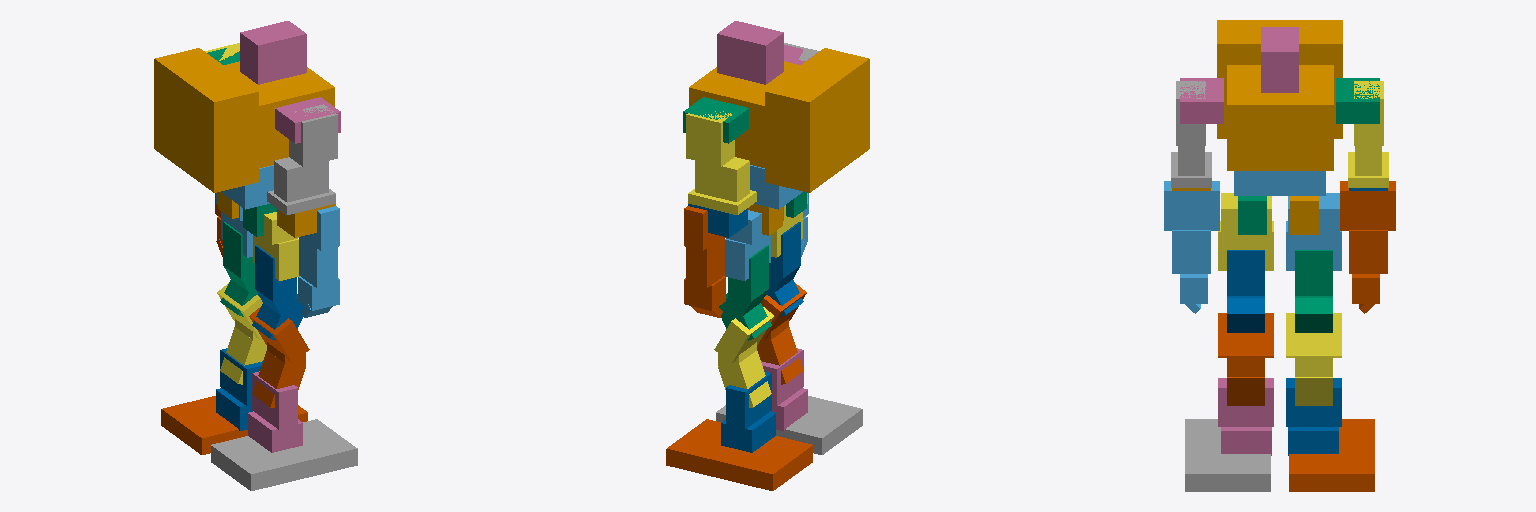
The robot description file, URDF, robot "khr3hv":
<?xml version="1.0"?>
<robot name="khr3hv" xmlns:xacro="http://ros.org/wiki/xacro">
  <link name="base_link">
    <visual>
      <origin xyz="-0.00475 0 -0.01675" rpy="0 0 0"/>
      <geometry>
        <box size="0.0805 0.089 0.0605"/>
      </geometry>
    </visual>
    <collision>
      <origin xyz="-0.00475 0 -0.01675" rpy="0 0 0"/>
      <geometry>
        <box size="0.0805 0.089 0.0605"/>
      </geometry>
    </collision>
    <visual>
      <origin xyz="-0.06925 0 -0.012" rpy="0 0 0"/>
      <geometry>
        <box size="0.0455 0.105 0.088"/>
      </geometry>
    </visual>
    <collision>
      <origin xyz="-0.06925 0 -0.012" rpy="0 0 0"/>
      <geometry>
        <box size="0.0455 0.105 0.088"/>
      </geometry>
    </collision>
  </link>
  <joint name="Waist" type="revolute">
    <parent link="base_link"/>
    <child link="Waist"/>
    <axis xyz="0 0 1"/>
    <limit effort="1.3729" lower="-2.356" upper="2.356" velocity="7.48"/>
    <origin xyz="-0.02425 0 -0.04715" rpy="0 0 0"/>
  </joint>
  <link name="Waist">
    <visual>
      <origin xyz="-0.00275 0 -0.022" rpy="0 0 0"/>
      <geometry>
        <box size="0.0505 0.076 0.036"/>
      </geometry>
    </visual>
    <collision>
      <origin xyz="-0.00275 0 -0.022" rpy="0 0 0"/>
      <geometry>
        <box size="0.0505 0.076 0.036"/>
      </geometry>
    </collision>
  </link>
  <joint name="RightFemurHead1" type="revolute">
    <parent link="Waist"/>
    <child link="RightFemur"/>
    <axis xyz="0 0 -1"/>
    <limit effort="1.3729" lower="-2.356" upper="2.356" velocity="7.48"/>
    <origin xyz="0.00875 -0.0215 -0.03995" rpy="0 0 0"/>
  </joint>
  <link name="RightFemur">
    <visual>
      <origin xyz="0 -0.0015 -0.0155" rpy="0 0 0"/>
      <geometry>
        <box size="0.047 0.024 0.031"/>
      </geometry>
    </visual>
    <collision>
      <origin xyz="0 -0.0015 -0.0155" rpy="0 0 0"/>
      <geometry>
        <box size="0.047 0.024 0.031"/>
      </geometry>
    </collision>
  </link>
  <joint name="RightFemurHead2" type="revolute">
    <parent link="RightFemur"/>
    <child link="solid"/>
    <axis xyz="-1 0 0"/>
    <limit effort="1.3729" lower="-2.356" upper="2.356" velocity="7.48"/>
    <origin xyz="0 0.00455 -0.02235" rpy="0 0 0"/>
  </joint>
  <link name="solid">
    <visual>
      <origin xyz="0 -0.01125 -0.00025" rpy="0 0 0"/>
      <geometry>
        <box size="0.032 0.0425 0.0235"/>
      </geometry>
    </visual>
    <collision>
      <origin xyz="0 -0.01125 -0.00025" rpy="0 0 0"/>
      <geometry>
        <box size="0.032 0.0425 0.0235"/>
      </geometry>
    </collision>
    <visual>
      <origin xyz="0 -0.01125 -0.03" rpy="0 0 0"/>
      <geometry>
        <box size="0.02 0.0465 0.036"/>
      </geometry>
    </visual>
    <collision>
      <origin xyz="0 -0.01125 -0.03" rpy="0 0 0"/>
      <geometry>
        <box size="0.02 0.0465 0.036"/>
      </geometry>
    </collision>
  </link>
  <joint name="RightFemur" type="revolute">
    <parent link="solid"/>
    <child link="solid_0"/>
    <axis xyz="1 0 0"/>
    <limit effort="1.3729" lower="-2.356" upper="2.356" velocity="7.48"/>
    <origin xyz="-0.0008 -0.0113 -0.0387" rpy="0 0 0"/>
  </joint>
  <link name="solid_0">
    <visual>
      <origin xyz="0.00075 0 -0.011" rpy="0 0 0"/>
      <geometry>
        <box size="0.0235 0.032 0.042"/>
      </geometry>
    </visual>
    <collision>
      <origin xyz="0.00075 0 -0.011" rpy="0 0 0"/>
      <geometry>
        <box size="0.0235 0.032 0.042"/>
      </geometry>
    </collision>
    <visual>
      <origin xyz="0.006 0 -0.054" rpy="2.088799 -0.00001 1.570801"/>
      <geometry>
        <box size="0.032 0.042 0.0225"/>
      </geometry>
    </visual>
    <collision>
      <origin xyz="0.006 0 -0.054" rpy="2.088799 -0.00001 1.570801"/>
      <geometry>
        <box size="0.032 0.042 0.0225"/>
      </geometry>
    </collision>
    <visual>
      <origin xyz="0.003 0 -0.037" rpy="2.6708 -0.000011 1.5708"/>
      <geometry>
        <box size="0.032 0.02 0.0215"/>
      </geometry>
    </visual>
    <collision>
      <origin xyz="0.003 0 -0.037" rpy="2.6708 -0.000011 1.5708"/>
      <geometry>
        <box size="0.032 0.02 0.0215"/>
      </geometry>
    </collision>
  </link>
  <joint name="RightCrus" type="revolute">
    <parent link="solid_0"/>
    <child link="solid_1"/>
    <axis xyz="1 0 0"/>
    <limit effort="1.3729" lower="-2.356" upper="2.356" velocity="7.48"/>
    <origin xyz="0.00015 0 -0.06375" rpy="0 0 0"/>
  </joint>
  <link name="solid_1">
    <visual>
      <origin xyz="0.00425 0 -0.008" rpy="1.0708 -0.000011 1.570799"/>
      <geometry>
        <box size="0.0465 0.036 0.02"/>
      </geometry>
    </visual>
    <collision>
      <origin xyz="0.00425 0 -0.008" rpy="1.0708 -0.000011 1.570799"/>
      <geometry>
        <box size="0.0465 0.036 0.02"/>
      </geometry>
    </collision>
    <visual>
      <origin xyz="0.004 0 -0.054" rpy="1.930799 -0.000011 1.570801"/>
      <geometry>
        <box size="0.032 0.042 0.023"/>
      </geometry>
    </visual>
    <collision>
      <origin xyz="0.004 0 -0.054" rpy="1.930799 -0.000011 1.570801"/>
      <geometry>
        <box size="0.032 0.042 0.023"/>
      </geometry>
    </collision>
    <visual>
      <origin xyz="0.0115 0 -0.028" rpy="0 0 0"/>
      <geometry>
        <box size="0.0215 0.032 0.02"/>
      </geometry>
    </visual>
    <collision>
      <origin xyz="0.0115 0 -0.028" rpy="0 0 0"/>
      <geometry>
        <box size="0.0215 0.032 0.02"/>
      </geometry>
    </collision>
  </link>
  <joint name="RightAnkle" type="revolute">
    <parent link="solid_1"/>
    <child link="solid_2"/>
    <axis xyz="1 0 0"/>
    <limit effort="1.3729" lower="-2.356" upper="2.356" velocity="7.48"/>
    <origin xyz="0.0003 0.0002 -0.0643" rpy="0 0 0"/>
  </joint>
  <link name="solid_2">
    <visual>
      <origin xyz="0 0 -0.037" rpy="0 0 0"/>
      <geometry>
        <box size="0.032 0.0425 0.0235"/>
      </geometry>
    </visual>
    <collision>
      <origin xyz="0 0 -0.037" rpy="0 0 0"/>
      <geometry>
        <box size="0.032 0.0425 0.0235"/>
      </geometry>
    </collision>
    <visual>
      <origin xyz="0 0 -0.007" rpy="0 0 0"/>
      <geometry>
        <box size="0.02 0.0465 0.036"/>
      </geometry>
    </visual>
    <collision>
      <origin xyz="0 0 -0.007" rpy="0 0 0"/>
      <geometry>
        <box size="0.02 0.0465 0.036"/>
      </geometry>
    </collision>
  </link>
  <joint name="RightFoot" type="revolute">
    <parent link="solid_2"/>
    <child link="solid_3"/>
    <axis xyz="-1 0 0"/>
    <limit effort="1.3729" lower="-2.356" upper="2.356" velocity="7.48"/>
    <origin xyz="0 0.01125 -0.037" rpy="0 0 0"/>
  </joint>
  <link name="solid_3">
    <visual>
      <origin xyz="0 -0.0265 -0.01825" rpy="0 0 0"/>
      <geometry>
        <box size="0.108 0.071 0.0165"/>
      </geometry>
    </visual>
    <collision>
      <origin xyz="0 -0.0265 -0.01825" rpy="0 0 0"/>
      <geometry>
        <box size="0.108 0.071 0.0165"/>
      </geometry>
    </collision>
  </link>
  <joint name="LeftFemurHead1" type="revolute">
    <parent link="Waist"/>
    <child link="LeftFemur"/>
    <axis xyz="0 0 1"/>
    <limit effort="1.3729" lower="-2.356" upper="2.356" velocity="7.48"/>
    <origin xyz="0.00875 0.02145 -0.03995" rpy="0 0 0"/>
  </joint>
  <link name="LeftFemur">
    <visual>
      <origin xyz="0 -0.0015 -0.0155" rpy="0 0 0"/>
      <geometry>
        <box size="0.047 0.024 0.031"/>
      </geometry>
    </visual>
    <collision>
      <origin xyz="0 -0.0015 -0.0155" rpy="0 0 0"/>
      <geometry>
        <box size="0.047 0.024 0.031"/>
      </geometry>
    </collision>
  </link>
  <joint name="LeftFemurHead2" type="revolute">
    <parent link="LeftFemur"/>
    <child link="solid_4"/>
    <axis xyz="1 0 0"/>
    <limit effort="1.3729" lower="-2.356" upper="2.356" velocity="7.48"/>
    <origin xyz="0 -0.00455 -0.02235" rpy="0 0 0"/>
  </joint>
  <link name="solid_4">
    <visual>
      <origin xyz="0 0.01125 -0.00025" rpy="0 0 0"/>
      <geometry>
        <box size="0.032 0.0425 0.0235"/>
      </geometry>
    </visual>
    <collision>
      <origin xyz="0 0.01125 -0.00025" rpy="0 0 0"/>
      <geometry>
        <box size="0.032 0.0425 0.0235"/>
      </geometry>
    </collision>
    <visual>
      <origin xyz="0 0.01125 -0.03" rpy="0 0 0"/>
      <geometry>
        <box size="0.02 0.0465 0.036"/>
      </geometry>
    </visual>
    <collision>
      <origin xyz="0 0.01125 -0.03" rpy="0 0 0"/>
      <geometry>
        <box size="0.02 0.0465 0.036"/>
      </geometry>
    </collision>
  </link>
  <joint name="LeftFemur" type="revolute">
    <parent link="solid_4"/>
    <child link="solid_5"/>
    <axis xyz="1 0 0"/>
    <limit effort="1.3729" lower="-2.356" upper="2.356" velocity="7.48"/>
    <origin xyz="-0.0008 0.0113 -0.0387" rpy="0 0 0"/>
  </joint>
  <link name="solid_5">
    <visual>
      <origin xyz="0.00075 0 -0.011" rpy="0 0 0"/>
      <geometry>
        <box size="0.0235 0.032 0.042"/>
      </geometry>
    </visual>
    <collision>
      <origin xyz="0.00075 0 -0.011" rpy="0 0 0"/>
      <geometry>
        <box size="0.0235 0.032 0.042"/>
      </geometry>
    </collision>
    <visual>
      <origin xyz="0.006 0 -0.054" rpy="2.088799 -0.00001 1.570801"/>
      <geometry>
        <box size="0.032 0.042 0.0225"/>
      </geometry>
    </visual>
    <collision>
      <origin xyz="0.006 0 -0.054" rpy="2.088799 -0.00001 1.570801"/>
      <geometry>
        <box size="0.032 0.042 0.0225"/>
      </geometry>
    </collision>
    <visual>
      <origin xyz="0.003 0 -0.037" rpy="2.6708 -0.000011 1.5708"/>
      <geometry>
        <box size="0.032 0.02 0.0215"/>
      </geometry>
    </visual>
    <collision>
      <origin xyz="0.003 0 -0.037" rpy="2.6708 -0.000011 1.5708"/>
      <geometry>
        <box size="0.032 0.02 0.0215"/>
      </geometry>
    </collision>
  </link>
  <joint name="LeftCrus" type="revolute">
    <parent link="solid_5"/>
    <child link="solid_6"/>
    <axis xyz="1 0 0"/>
    <limit effort="1.3729" lower="-2.356" upper="2.356" velocity="7.48"/>
    <origin xyz="0.00015 0 -0.06375" rpy="0 0 0"/>
  </joint>
  <link name="solid_6">
    <visual>
      <origin xyz="0.00425 0 -0.008" rpy="1.0708 -0.000011 1.570799"/>
      <geometry>
        <box size="0.0465 0.036 0.02"/>
      </geometry>
    </visual>
    <collision>
      <origin xyz="0.00425 0 -0.008" rpy="1.0708 -0.000011 1.570799"/>
      <geometry>
        <box size="0.0465 0.036 0.02"/>
      </geometry>
    </collision>
    <visual>
      <origin xyz="0.004 0 -0.054" rpy="1.930799 -0.000011 1.570801"/>
      <geometry>
        <box size="0.032 0.042 0.023"/>
      </geometry>
    </visual>
    <collision>
      <origin xyz="0.004 0 -0.054" rpy="1.930799 -0.000011 1.570801"/>
      <geometry>
        <box size="0.032 0.042 0.023"/>
      </geometry>
    </collision>
    <visual>
      <origin xyz="0.0115 0 -0.028" rpy="0 0 0"/>
      <geometry>
        <box size="0.0215 0.032 0.02"/>
      </geometry>
    </visual>
    <collision>
      <origin xyz="0.0115 0 -0.028" rpy="0 0 0"/>
      <geometry>
        <box size="0.0215 0.032 0.02"/>
      </geometry>
    </collision>
  </link>
  <joint name="LeftAnkle" type="revolute">
    <parent link="solid_6"/>
    <child link="solid_7"/>
    <axis xyz="0 1 0"/>
    <limit effort="1.3729" lower="-2.356" upper="2.356" velocity="7.48"/>
    <origin xyz="0.0003 -0.0002 -0.0643" rpy="0 0 0"/>
  </joint>
  <link name="solid_7">
    <visual>
      <origin xyz="0 0 -0.037" rpy="0 0 0"/>
      <geometry>
        <box size="0.032 0.0425 0.0235"/>
      </geometry>
    </visual>
    <collision>
      <origin xyz="0 0 -0.037" rpy="0 0 0"/>
      <geometry>
        <box size="0.032 0.0425 0.0235"/>
      </geometry>
    </collision>
    <visual>
      <origin xyz="0 0 -0.007" rpy="0 0 0"/>
      <geometry>
        <box size="0.02 0.0465 0.036"/>
      </geometry>
    </visual>
    <collision>
      <origin xyz="0 0 -0.007" rpy="0 0 0"/>
      <geometry>
        <box size="0.02 0.0465 0.036"/>
      </geometry>
    </collision>
  </link>
  <joint name="LeftFoot" type="revolute">
    <parent link="solid_7"/>
    <child link="solid_8"/>
    <axis xyz="1 0 0"/>
    <limit effort="1.3729" lower="-2.356" upper="2.356" velocity="7.48"/>
    <origin xyz="0 -0.01125 -0.037" rpy="0 0 0"/>
  </joint>
  <link name="solid_8">
    <visual>
      <origin xyz="0 0.0265 -0.01825" rpy="0 0 0"/>
      <geometry>
        <box size="0.108 0.071 0.0165"/>
      </geometry>
    </visual>
    <collision>
      <origin xyz="0 0.0265 -0.01825" rpy="0 0 0"/>
      <geometry>
        <box size="0.108 0.071 0.0165"/>
      </geometry>
    </collision>
  </link>
  <joint name="RightShoulder" type="revolute">
    <parent link="base_link"/>
    <child link="RightShoulder"/>
    <axis xyz="0 -1 0"/>
    <limit effort="1.3729" lower="-2.356" upper="2.356" velocity="7.48"/>
    <origin xyz="-0.0041 -0.0475 -0.0009" rpy="0 0 0"/>
  </joint>
  <link name="RightShoulder">
    <visual>
      <origin xyz="0 -0.0175 0" rpy="0 0 0"/>
      <geometry>
        <box size="0.0465 0.036 0.02"/>
      </geometry>
    </visual>
    <collision>
      <origin xyz="0 -0.0175 0" rpy="0 0 0"/>
      <geometry>
        <box size="0.0465 0.036 0.02"/>
      </geometry>
    </collision>
  </link>
  <joint name="RightArm" type="revolute">
    <parent link="RightShoulder"/>
    <child link="solid_9"/>
    <axis xyz="-1 0 0"/>
    <limit effort="1.3729" lower="-2.356" upper="2.356" velocity="7.48"/>
    <origin xyz="0 -0.02645 0" rpy="0 0 0"/>
  </joint>
  <link name="solid_9">
    <visual>
      <origin xyz="0.00025 0 -0.01125" rpy="0 0 0"/>
      <geometry>
        <box size="0.0355 0.025 0.0425"/>
      </geometry>
    </visual>
    <collision>
      <origin xyz="0.00025 0 -0.01125" rpy="0 0 0"/>
      <geometry>
        <box size="0.0355 0.025 0.0425"/>
      </geometry>
    </collision>
    <visual>
      <origin xyz="-0.01175 0.00025 -0.04825" rpy="0 0 0"/>
      <geometry>
        <box size="0.0425 0.0225 0.0315"/>
      </geometry>
    </visual>
    <collision>
      <origin xyz="-0.01175 0.00025 -0.04825" rpy="0 0 0"/>
      <geometry>
        <box size="0.0425 0.0225 0.0315"/>
      </geometry>
    </collision>
    <visual>
      <origin xyz="-0.01125 0.00025 -0.06875" rpy="0 0 0"/>
      <geometry>
        <box size="0.0505 0.0335 0.0095"/>
      </geometry>
    </visual>
    <collision>
      <origin xyz="-0.01125 0.00025 -0.06875" rpy="0 0 0"/>
      <geometry>
        <box size="0.0505 0.0335 0.0095"/>
      </geometry>
    </collision>
  </link>
  <joint name="RightElbow" type="revolute">
    <parent link="solid_9"/>
    <child link="solid_10"/>
    <axis xyz="0 0 -1"/>
    <limit effort="1.3729" lower="-2.356" upper="2.356" velocity="7.48"/>
    <origin xyz="0.00225 0.00025 -0.07365" rpy="0 0 0"/>
  </joint>
  <link name="solid_10">
    <visual>
      <origin xyz="-0.009 0 -0.012" rpy="0 0 0"/>
      <geometry>
        <box size="0.042 0.032 0.024"/>
      </geometry>
    </visual>
    <collision>
      <origin xyz="-0.009 0 -0.012" rpy="0 0 0"/>
      <geometry>
        <box size="0.042 0.032 0.024"/>
      </geometry>
    </collision>
  </link>
  <joint name="RightForearm" type="revolute">
    <parent link="solid_10"/>
    <child link="solid_11"/>
    <axis xyz="0 -1 0"/>
    <limit effort="1.3729" lower="-2.356" upper="2.356" velocity="7.48"/>
    <origin xyz="0.0022 0 -0.0117" rpy="0 0 0"/>
  </joint>
  <link name="solid_11">
    <visual>
      <origin xyz="0 0 -0.009" rpy="0 0 0"/>
      <geometry>
        <box size="0.02 0.0465 0.036"/>
      </geometry>
    </visual>
    <collision>
      <origin xyz="0 0 -0.009" rpy="0 0 0"/>
      <geometry>
        <box size="0.02 0.0465 0.036"/>
      </geometry>
    </collision>
    <visual>
      <origin xyz="0.001 0 -0.0465" rpy="0 0 0"/>
      <geometry>
        <box size="0.021 0.032 0.04"/>
      </geometry>
    </visual>
    <collision>
      <origin xyz="0.001 0 -0.0465" rpy="0 0 0"/>
      <geometry>
        <box size="0.021 0.032 0.04"/>
      </geometry>
    </collision>
    <visual>
      <origin xyz="0.003 0.00175 -0.0785" rpy="0 0 0"/>
      <geometry>
        <box size="0.029 0.0235 0.024"/>
      </geometry>
    </visual>
    <collision>
      <origin xyz="0.003 0.00175 -0.0785" rpy="0 0 0"/>
      <geometry>
        <box size="0.029 0.0235 0.024"/>
      </geometry>
    </collision>
    <visual>
      <origin xyz="0 -0.001 -0.094" rpy="1.570802 -0.785409 1.570795"/>
      <geometry>
        <box size="0.0065 0.0175 0.024"/>
      </geometry>
    </visual>
    <collision>
      <origin xyz="0 -0.001 -0.094" rpy="1.570802 -0.785409 1.570795"/>
      <geometry>
        <box size="0.0065 0.0175 0.024"/>
      </geometry>
    </collision>
  </link>
  <joint name="LeftShoulder" type="revolute">
    <parent link="base_link"/>
    <child link="LeftShoulder"/>
    <axis xyz="0 -1 0"/>
    <limit effort="1.3729" lower="-2.356" upper="2.356" velocity="7.48"/>
    <origin xyz="-0.0041 0.04725 -0.0009" rpy="0 0 0"/>
  </joint>
  <link name="LeftShoulder">
    <visual>
      <origin xyz="0 0.0175 0" rpy="0 0 0"/>
      <geometry>
        <box size="0.0465 0.036 0.02"/>
      </geometry>
    </visual>
    <collision>
      <origin xyz="0 0.0175 0" rpy="0 0 0"/>
      <geometry>
        <box size="0.0465 0.036 0.02"/>
      </geometry>
    </collision>
  </link>
  <joint name="LeftArm" type="revolute">
    <parent link="LeftShoulder"/>
    <child link="solid_12"/>
    <axis xyz="1 0 0"/>
    <limit effort="1.3729" lower="-2.356" upper="2.356" velocity="7.48"/>
    <origin xyz="0 0.02645 0" rpy="0 0 0"/>
  </joint>
  <link name="solid_12">
    <visual>
      <origin xyz="0.00025 0 -0.01125" rpy="0 0 0"/>
      <geometry>
        <box size="0.0355 0.025 0.0425"/>
      </geometry>
    </visual>
    <collision>
      <origin xyz="0.00025 0 -0.01125" rpy="0 0 0"/>
      <geometry>
        <box size="0.0355 0.025 0.0425"/>
      </geometry>
    </collision>
    <visual>
      <origin xyz="-0.01175 -0.00025 -0.04825" rpy="0 0 0"/>
      <geometry>
        <box size="0.0425 0.0225 0.0315"/>
      </geometry>
    </visual>
    <collision>
      <origin xyz="-0.01175 -0.00025 -0.04825" rpy="0 0 0"/>
      <geometry>
        <box size="0.0425 0.0225 0.0315"/>
      </geometry>
    </collision>
    <visual>
      <origin xyz="-0.01125 -0.00025 -0.06875" rpy="0 0 0"/>
      <geometry>
        <box size="0.0505 0.0335 0.0095"/>
      </geometry>
    </visual>
    <collision>
      <origin xyz="-0.01125 -0.00025 -0.06875" rpy="0 0 0"/>
      <geometry>
        <box size="0.0505 0.0335 0.0095"/>
      </geometry>
    </collision>
  </link>
  <joint name="LeftElbow" type="revolute">
    <parent link="solid_12"/>
    <child link="solid_13"/>
    <axis xyz="0 0 1"/>
    <limit effort="1.3729" lower="-2.356" upper="2.356" velocity="7.48"/>
    <origin xyz="0.00225 -0.00025 -0.07365" rpy="0 0 0"/>
  </joint>
  <link name="solid_13">
    <visual>
      <origin xyz="-0.009 0 -0.012" rpy="0 0 0"/>
      <geometry>
        <box size="0.042 0.032 0.024"/>
      </geometry>
    </visual>
    <collision>
      <origin xyz="-0.009 0 -0.012" rpy="0 0 0"/>
      <geometry>
        <box size="0.042 0.032 0.024"/>
      </geometry>
    </collision>
  </link>
  <joint name="LeftForearm" type="revolute">
    <parent link="solid_13"/>
    <child link="solid_14"/>
    <axis xyz="0 -1 0"/>
    <limit effort="1.3729" lower="-2.356" upper="2.356" velocity="7.48"/>
    <origin xyz="0.0022 0 -0.0117" rpy="0 0 0"/>
  </joint>
  <link name="solid_14">
    <visual>
      <origin xyz="0 0 -0.009" rpy="0 0 0"/>
      <geometry>
        <box size="0.02 0.0465 0.036"/>
      </geometry>
    </visual>
    <collision>
      <origin xyz="0 0 -0.009" rpy="0 0 0"/>
      <geometry>
        <box size="0.02 0.0465 0.036"/>
      </geometry>
    </collision>
    <visual>
      <origin xyz="0.001 0 -0.0465" rpy="0 0 0"/>
      <geometry>
        <box size="0.021 0.032 0.04"/>
      </geometry>
    </visual>
    <collision>
      <origin xyz="0.001 0 -0.0465" rpy="0 0 0"/>
      <geometry>
        <box size="0.021 0.032 0.04"/>
      </geometry>
    </collision>
    <visual>
      <origin xyz="0.003 -0.00175 -0.0785" rpy="0 0 0"/>
      <geometry>
        <box size="0.029 0.0235 0.024"/>
      </geometry>
    </visual>
    <collision>
      <origin xyz="0.003 -0.00175 -0.0785" rpy="0 0 0"/>
      <geometry>
        <box size="0.029 0.0235 0.024"/>
      </geometry>
    </collision>
    <visual>
      <origin xyz="0 0.001 -0.094" rpy="1.570802 0.785387 1.570804"/>
      <geometry>
        <box size="0.0065 0.0175 0.024"/>
      </geometry>
    </visual>
    <collision>
      <origin xyz="0 0.001 -0.094" rpy="1.570802 0.785387 1.570804"/>
      <geometry>
        <box size="0.0065 0.0175 0.024"/>
      </geometry>
    </collision>
  </link>
  <joint name="Head" type="revolute">
    <parent link="base_link"/>
    <child link="Head"/>
    <axis xyz="0 0 1"/>
    <limit effort="1.3729" lower="-2.356" upper="2.356" velocity="7.48"/>
    <origin xyz="-0.00395 0 0.0134" rpy="0 0 0"/>
  </joint>
  <link name="Head">
    <visual>
      <origin xyz="0.00225 0 0.0245" rpy="0 0 0"/>
      <geometry>
        <box size="0.0495 0.032 0.038"/>
      </geometry>
    </visual>
    <collision>
      <origin xyz="0.00225 0 0.0245" rpy="0 0 0"/>
      <geometry>
        <box size="0.0495 0.032 0.038"/>
      </geometry>
    </collision>
  </link>
</robot>

--- Facts derived from the render (not from the file) ---
3 views of the same robot in one strip: view 1: azimuth 30°, elevation 25°; view 2: azimuth 150°, elevation 25°; view 3: azimuth 270°, elevation 25° (orthographic).
Robot: khr3hv — 23 links, 22 joints (22 revolute); root link base_link; default pose: all joints at 0.
Visible links, largest first — view 1: base_link, solid_3, solid_9, solid_11, Head, solid_1, solid_8, solid_2, solid_0, solid_6, solid_5, solid_7 (+6 smaller); view 2: base_link, solid_8, solid_12, solid_14, Head, solid_6, solid_3, solid_7, solid_5, solid_1, solid_0, solid_2 (+6 smaller); view 3: base_link, solid_11, solid_14, solid_3, solid_8, solid_1, solid_6, solid_0, solid_5, solid_2, solid_7, solid_12 (+9 smaller).
Boxes of the visible links, x1,y1,x2,y2 form: base_link: (154,48,334,192); solid_3: (211,419,357,490); solid_9: (267,104,337,215); solid_11: (298,206,339,317); Head: (240,21,306,84); solid_1: (249,307,309,407); solid_8: (161,396,307,454); solid_2: (248,371,302,452); solid_0: (252,245,304,340); solid_6: (217,283,266,384); solid_5: (220,222,259,316); solid_7: (216,348,262,430); base_link: (689,48,869,192); solid_8: (666,419,812,490); solid_12: (686,111,756,214); solid_14: (684,206,725,317); Head: (717,21,783,84); solid_6: (714,307,774,407); solid_3: (716,396,862,454); solid_7: (721,371,775,452); solid_5: (719,245,771,340); solid_1: (757,283,806,384); solid_0: (764,222,803,316); solid_2: (761,348,807,430); base_link: (1217,20,1342,170); solid_11: (1164,181,1219,313); solid_14: (1340,181,1395,313); solid_3: (1185,419,1270,491); solid_8: (1289,419,1374,491); solid_1: (1218,313,1273,405); solid_6: (1286,313,1341,405); solid_0: (1227,250,1264,332); solid_5: (1295,250,1332,332); solid_2: (1218,378,1273,455); solid_7: (1286,378,1341,455); solid_12: (1348,81,1388,187).
Size in the robot's own frame: 0.1302 by 0.1937 by 0.3966 metres.
Geometry: primitives only (box / cylinder / sphere), no mesh files.
